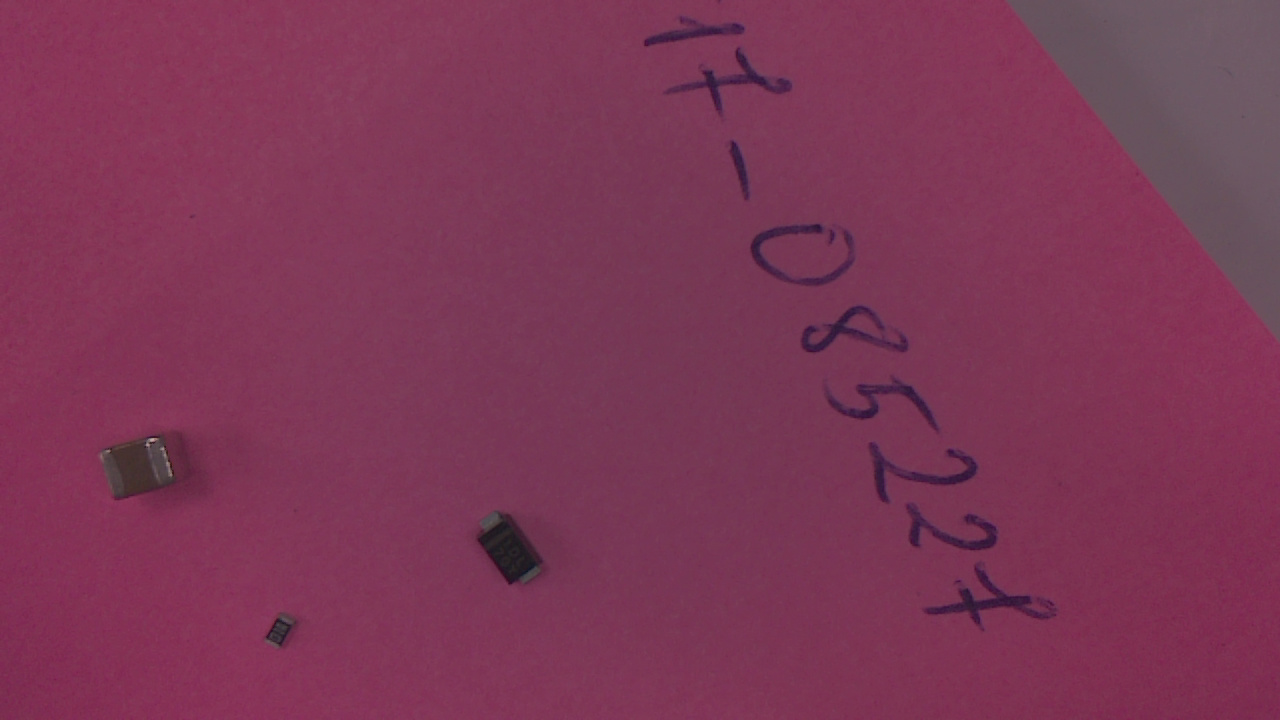Condensator: (101, 429, 191, 511)
Diode: (479, 516, 550, 591)
Resistor: (266, 614, 307, 652)
